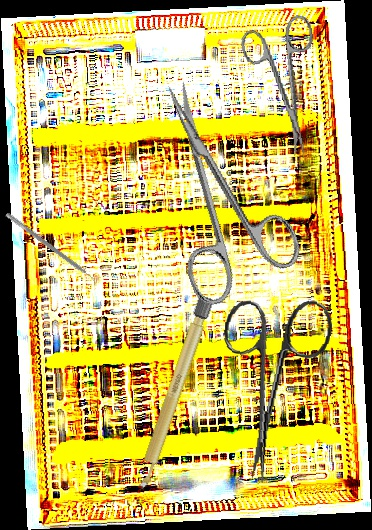Iris Scissors: (125, 62, 309, 311), (206, 290, 335, 490), (237, 13, 334, 163)
Scalpel Handle: (132, 294, 215, 494)
Spatula Surgical: (2, 212, 101, 288)
